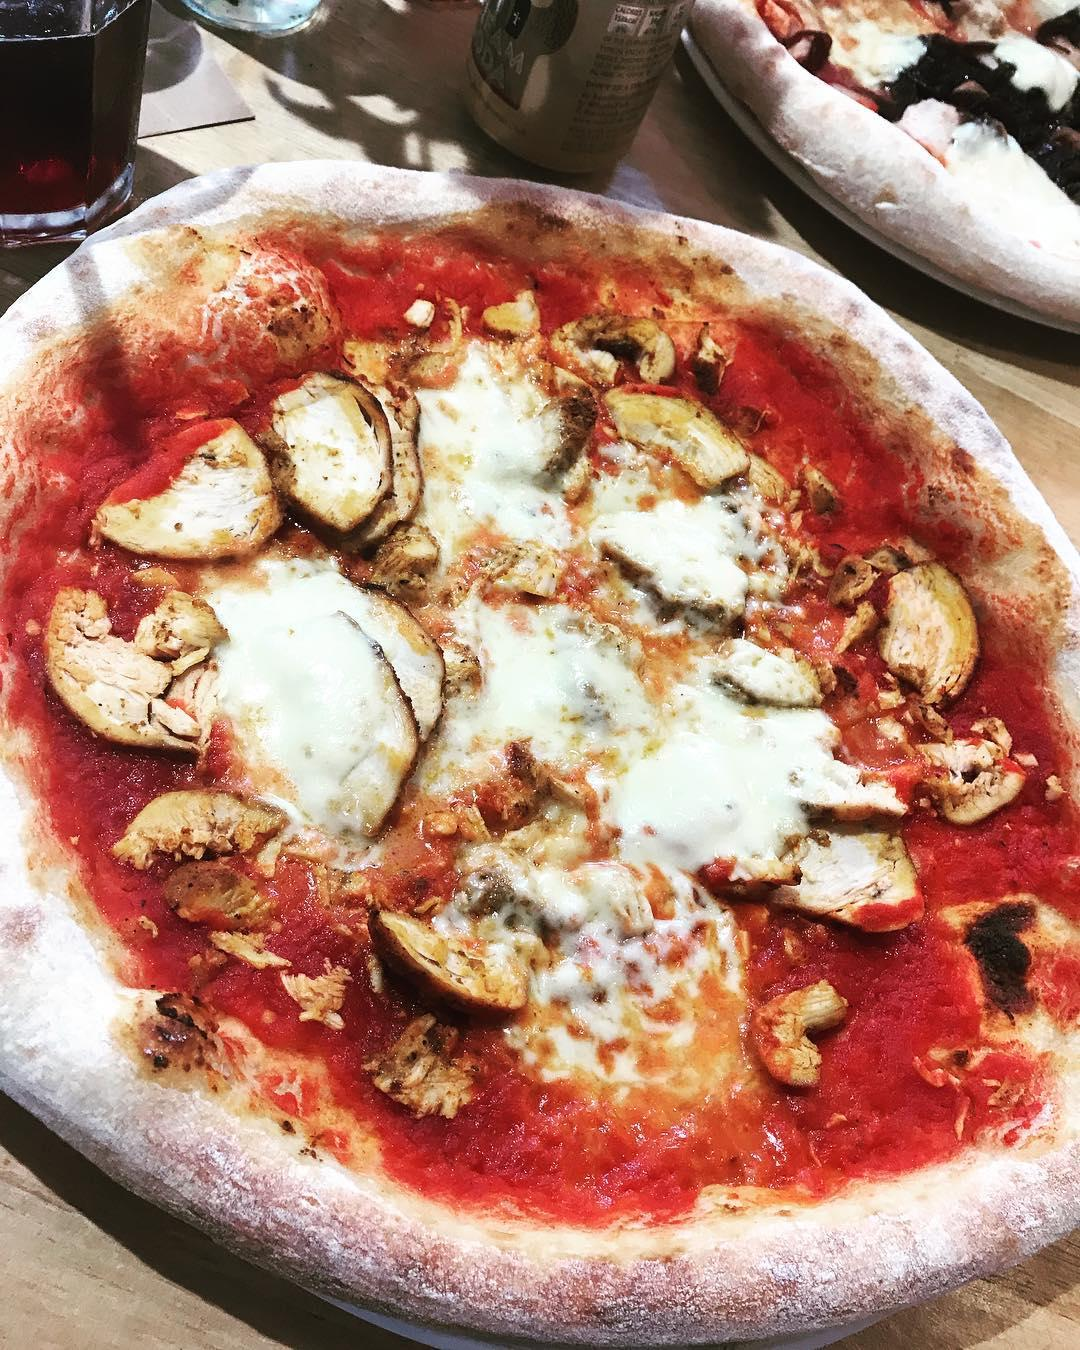Cheese: (241, 595, 382, 760), (636, 722, 780, 834), (432, 399, 541, 541)
Chicken: (42, 575, 231, 758), (86, 407, 290, 568), (263, 364, 429, 543), (352, 895, 549, 1032), (701, 830, 932, 941), (576, 377, 776, 503), (109, 779, 291, 882), (878, 551, 990, 713), (744, 978, 836, 1094), (554, 305, 677, 388), (348, 511, 439, 591)
Pizza: (0, 166, 1080, 1350)
